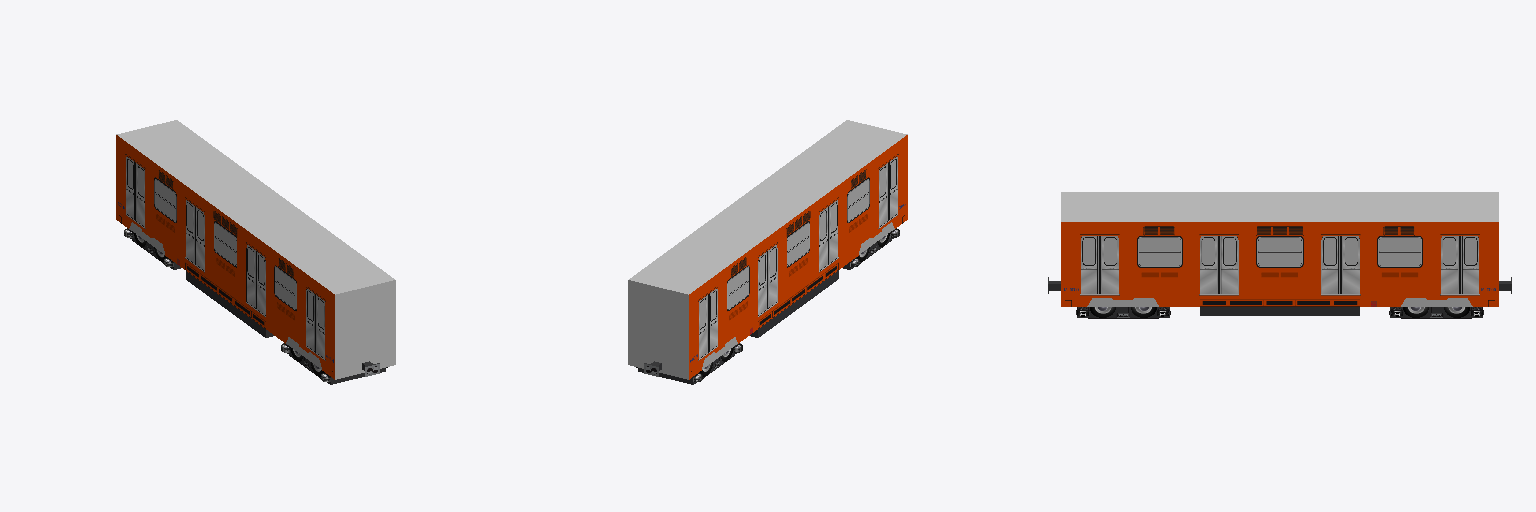
3 renders of one model, left to right at view 1: azimuth 30°, elevation 25°; view 2: azimuth 150°, elevation 25°; view 3: azimuth 270°, elevation 25°, orthographic.
Parts seen in each view (by area): view 1: body_ext, body_int, door_LB_ext, door_LF_ext, bogie; view 2: body_ext, body_int, door_LF_ext, door_LB_ext, bogie; view 3: body_ext, body_int, door_RF_ext, door_RB_ext, bogie.
Boxes of the visible parts, x1,y1,x2,y2 form: body_ext: [116, 120, 395, 379]; body_int: [128, 160, 323, 369]; door_LB_ext: [126, 157, 315, 351]; door_LF_ext: [136, 163, 324, 358]; bogie: [124, 228, 387, 384]; body_ext: [628, 120, 907, 379]; body_int: [700, 160, 895, 369]; door_LF_ext: [708, 157, 897, 351]; door_LB_ext: [699, 163, 887, 358]; bogie: [636, 228, 899, 384]; body_ext: [1061, 192, 1498, 315]; body_int: [1083, 238, 1476, 306]; door_RF_ext: [1100, 236, 1478, 293]; door_RB_ext: [1081, 236, 1459, 293]; bogie: [1048, 277, 1511, 318].
Bounding box in the file's own units: 2.34 × 3.38 × 14.57.
18 materials, 13 textured.